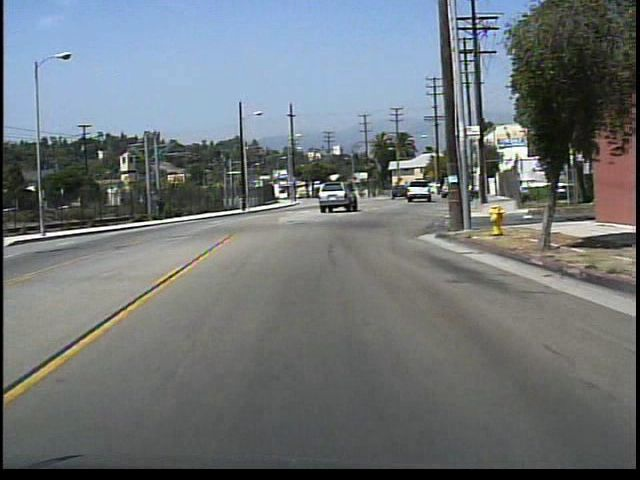person: (157, 191, 171, 221)
